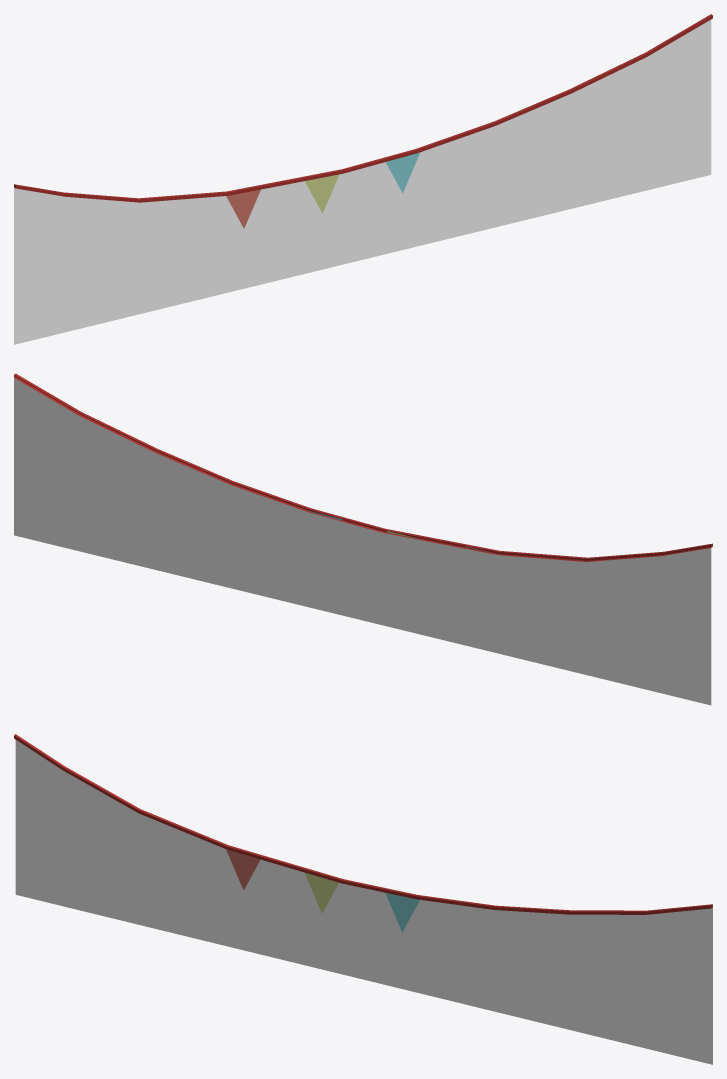
The model's file is HX-Finsh.FBX.
3 views of the same model, one above another, from view 1: azimuth 30°, elevation 25°; view 2: azimuth 150°, elevation 25°; view 3: azimuth 330°, elevation 25° (orthographic).
Visible parts, largest first — view 1: shengzi, caiqi2, caiqi1, caiqi3; view 2: shengzi; view 3: shengzi, caiqi3, caiqi1, caiqi2.
Part boxes in pixels (bbox=[...]): shengzi: bbox=[14, 14, 712, 344]; caiqi2: bbox=[305, 174, 339, 213]; caiqi1: bbox=[226, 189, 260, 228]; caiqi3: bbox=[386, 152, 420, 193]; shengzi: bbox=[14, 373, 712, 705]; shengzi: bbox=[14, 734, 712, 1064]; caiqi3: bbox=[385, 892, 419, 932]; caiqi1: bbox=[226, 849, 260, 890]; caiqi2: bbox=[304, 872, 338, 913].
Bounding box in the file's own units: 3055 × 673 × 12.96.
